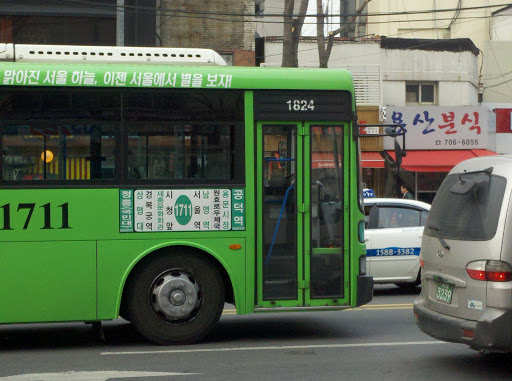entrance: (253, 110, 355, 311)
